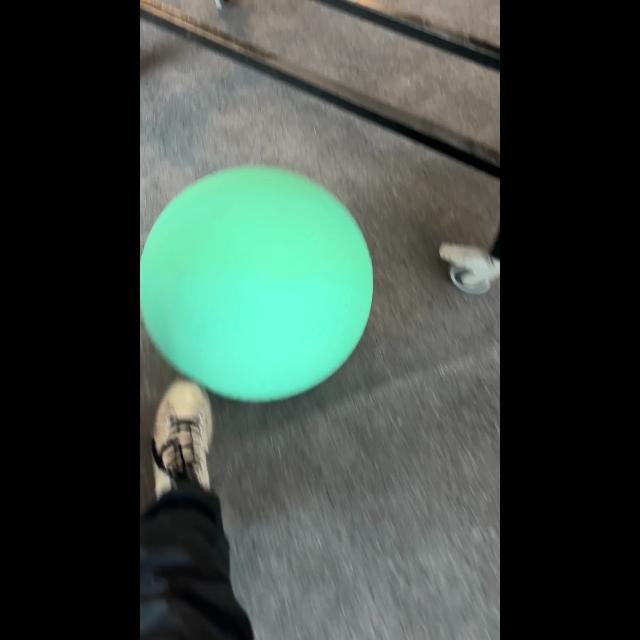ALGAE: (140, 163, 374, 403)
